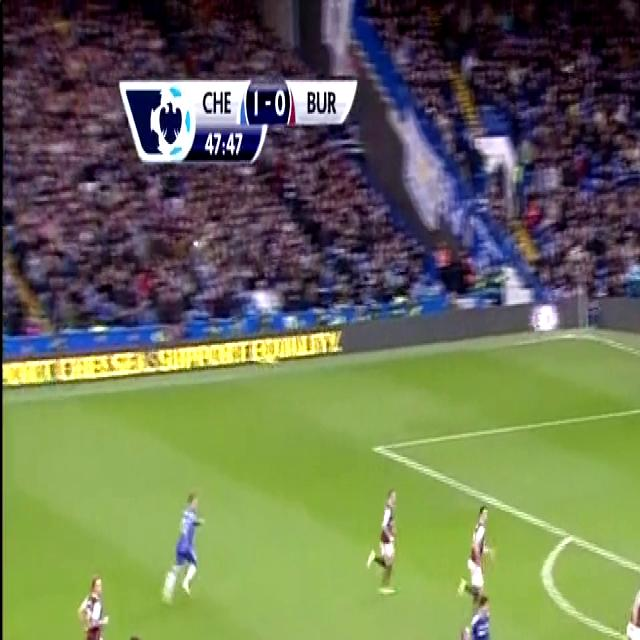soccer-player: (151, 477, 206, 613), (362, 476, 407, 602), (452, 492, 498, 613), (54, 556, 114, 640), (436, 602, 492, 640), (616, 553, 640, 640), (104, 631, 157, 640)
